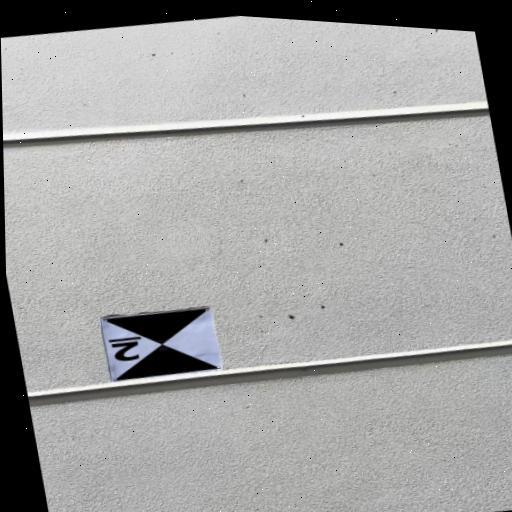target2: (99, 305, 221, 382)
